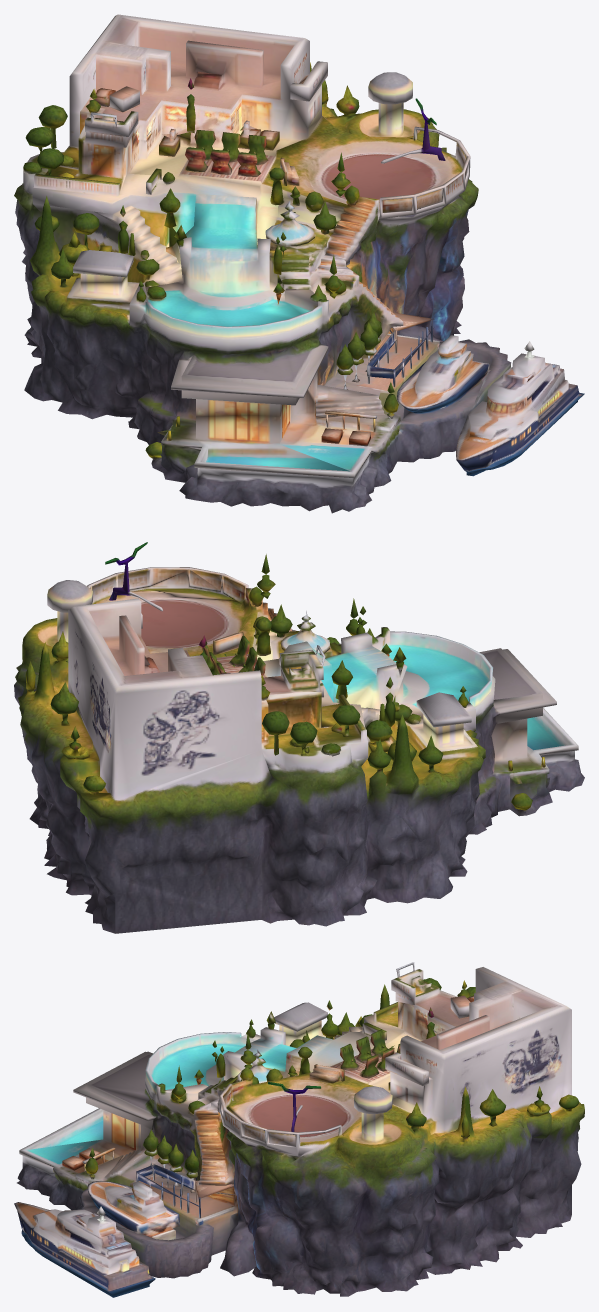
The model's file is tier6-lv30.glb.
3 views of the same model, one above another, from view 1: azimuth 30°, elevation 25°; view 2: azimuth 150°, elevation 25°; view 3: azimuth 270°, elevation 25° (orthographic). The views are drawn at different scales.
Parts seen in each view (by area): view 1: tripo_node_867b4630-8c1a-48e4-9b86-c26fb2452d4f; view 2: tripo_node_867b4630-8c1a-48e4-9b86-c26fb2452d4f; view 3: tripo_node_867b4630-8c1a-48e4-9b86-c26fb2452d4f.
Part boxes in pixels (left/top/right/bottom): tripo_node_867b4630-8c1a-48e4-9b86-c26fb2452d4f: left=14, top=14, right=584, bottom=513; tripo_node_867b4630-8c1a-48e4-9b86-c26fb2452d4f: left=14, top=542, right=584, bottom=933; tripo_node_867b4630-8c1a-48e4-9b86-c26fb2452d4f: left=14, top=962, right=584, bottom=1297.
Bounding box in the file's own units: 0.8144 × 0.459 × 1.12.
1 material, 1 textured.
